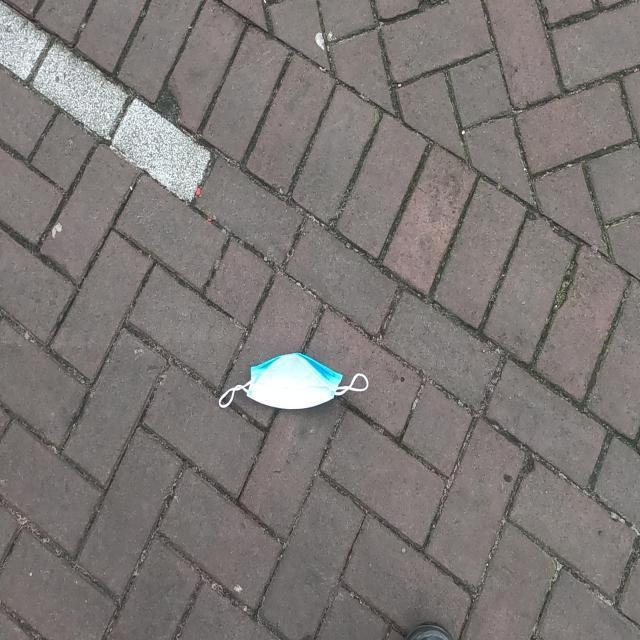Mask: (216, 350, 370, 412)
